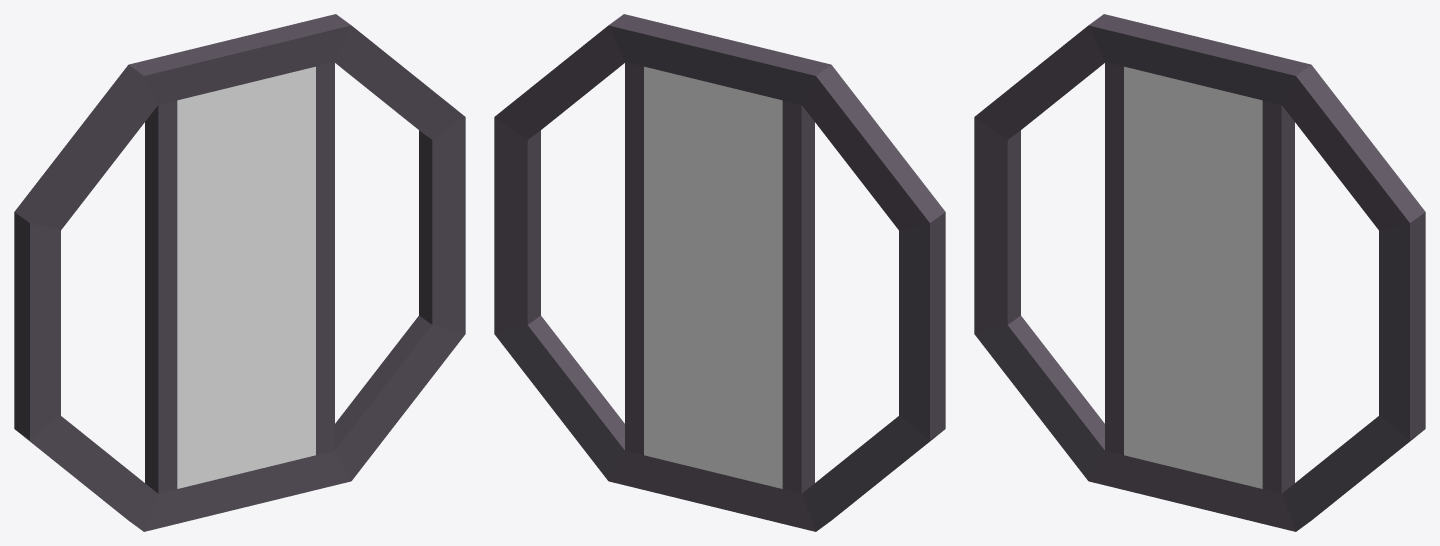
File: Obstacle08.fbx
The picture shows the model from 3 angles, left to right: view 1: azimuth 30°, elevation 25°; view 2: azimuth 150°, elevation 25°; view 3: azimuth 330°, elevation 25°; orthographic projection.
Visible parts, largest first — view 1: Obstacle08; view 2: Obstacle08; view 3: Obstacle08.
Part boxes in pixels (box(x1,y1,x2,y2)): Obstacle08: box(14, 14, 465, 531); Obstacle08: box(494, 14, 945, 531); Obstacle08: box(974, 14, 1425, 531).
Bounding box in the file's own units: 49.27 × 49.27 × 3.05.
